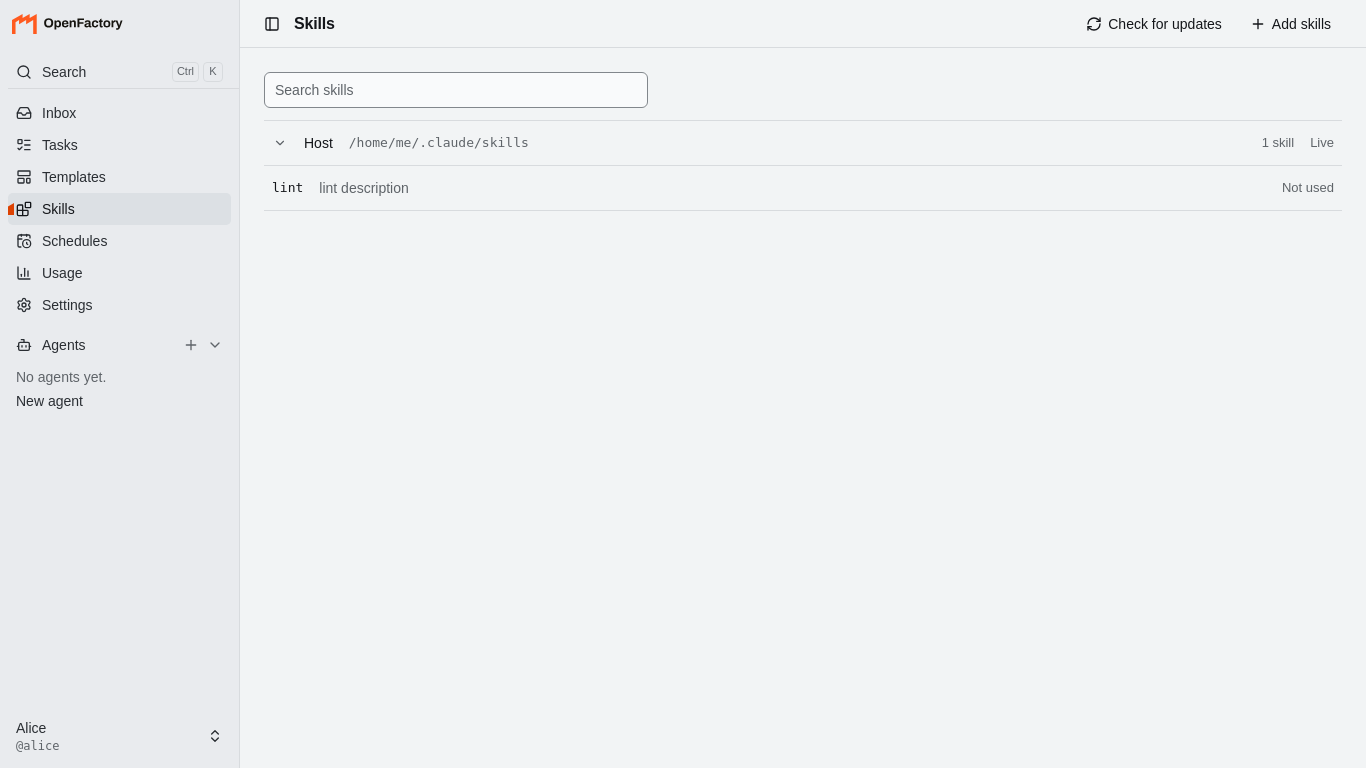
a github Find error for repo lands on its field
Click the button "Add skills". click: (1291, 24)
box: [1241,8,1342,40]
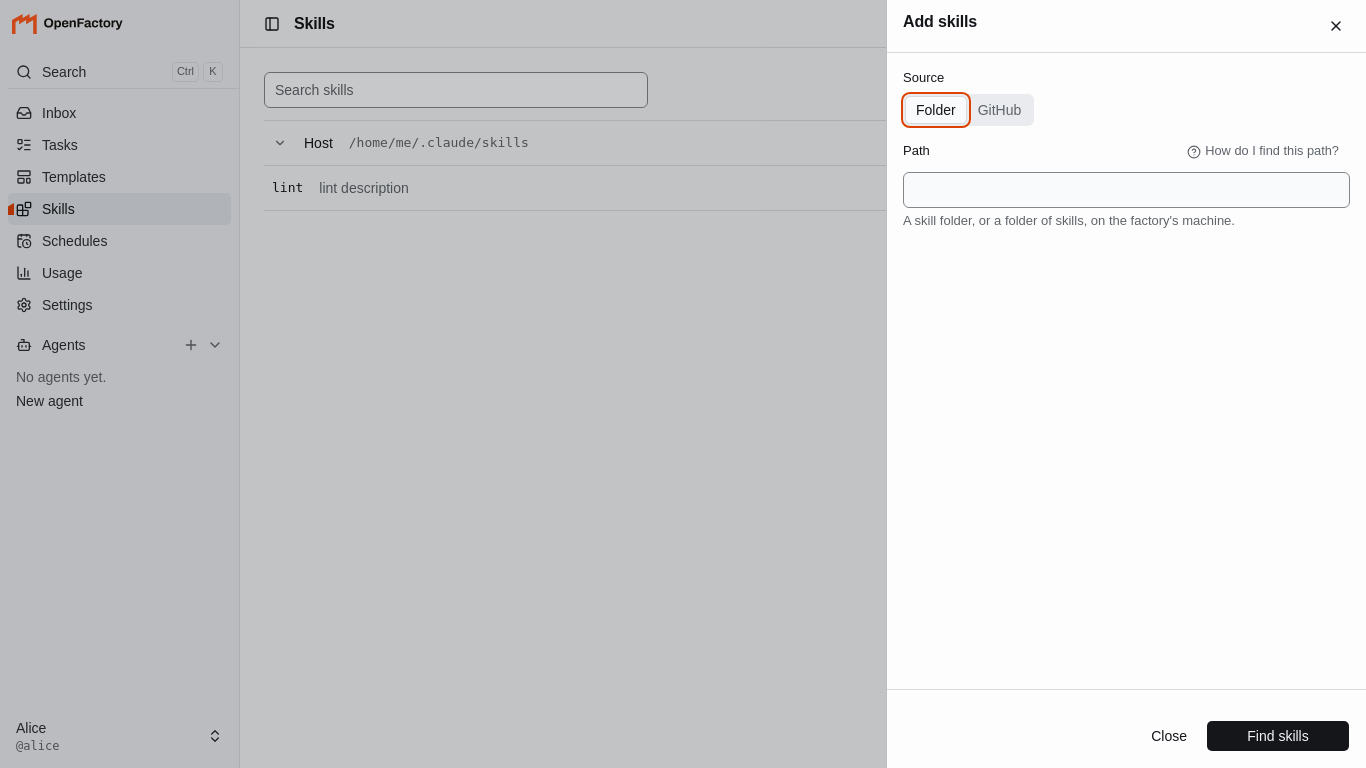
Expected: the form named "Add skills" is shown, [887,53,1365,767]
Click the radio button labelled "GitHub". click: (1000, 110)
box: [978,102,1021,118]
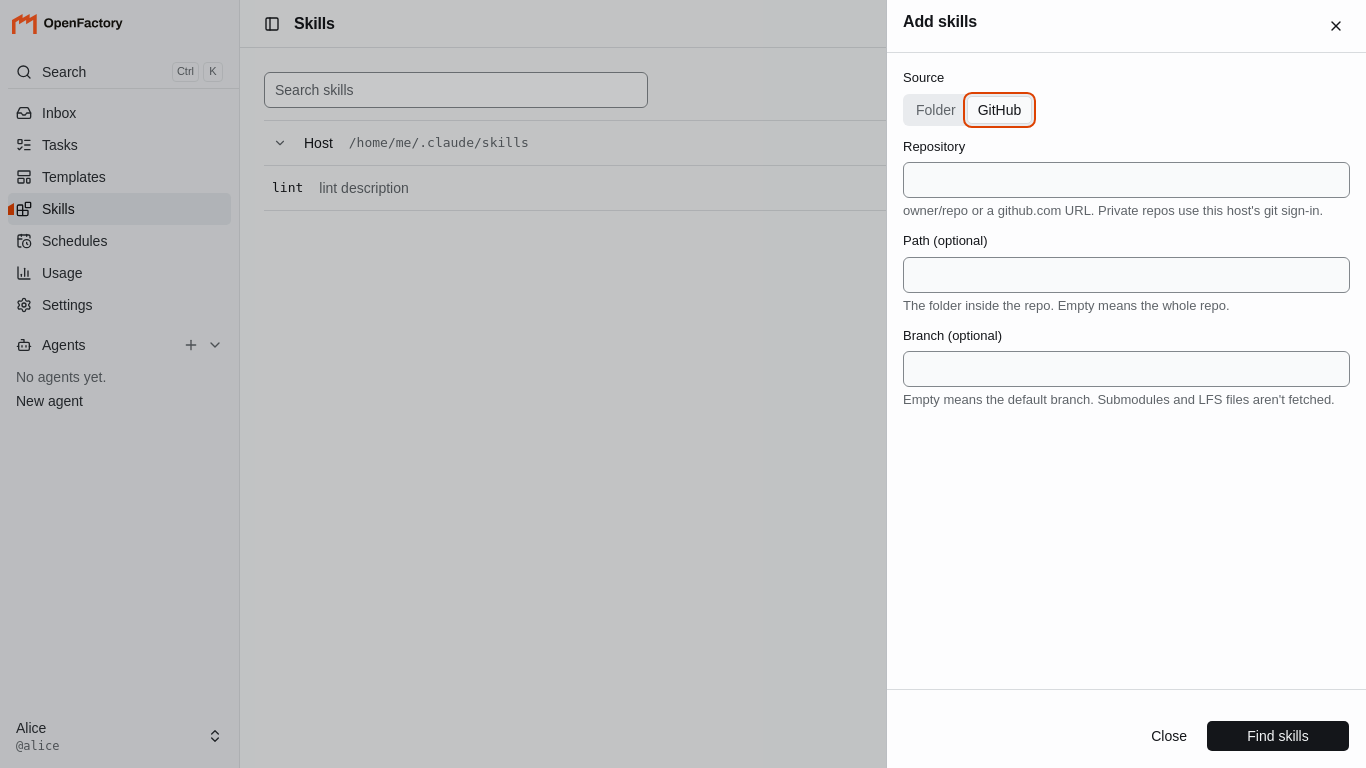
Type "acme/x" into the field labelled "Repository". click: (1126, 180)
box: [903,162,1350,198]
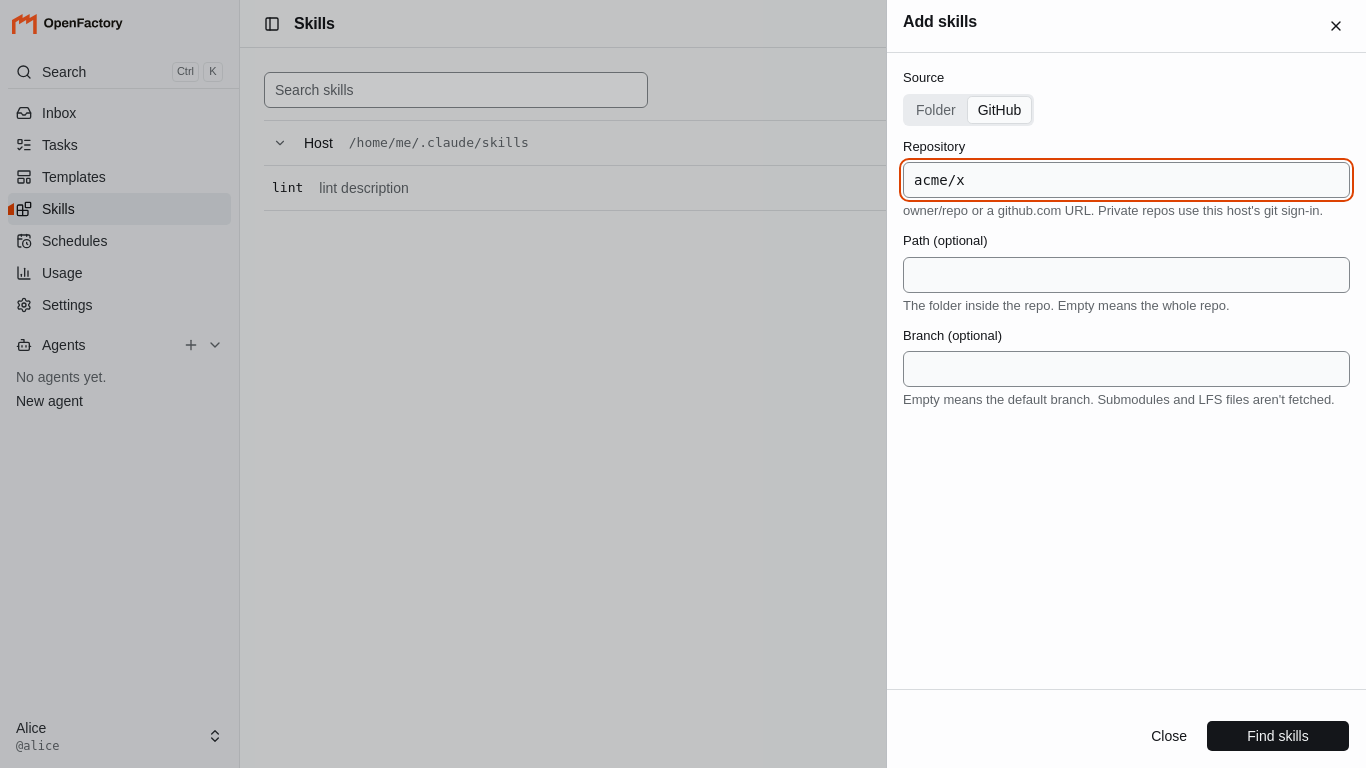
Click the button "Find skills". click: (1278, 736)
box: [1206,720,1350,752]
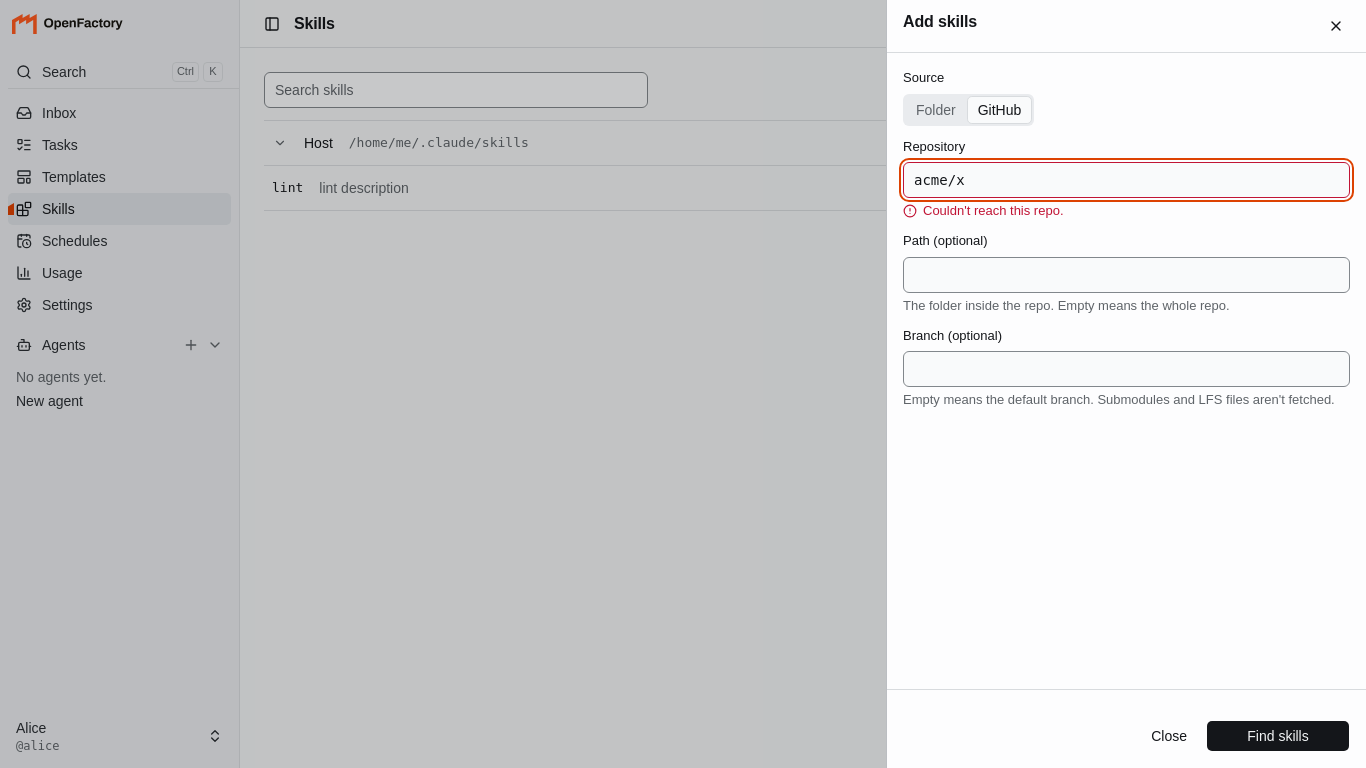
Expected: the text "Couldn't reach this repo." is shown, [923,202,1064,220]
